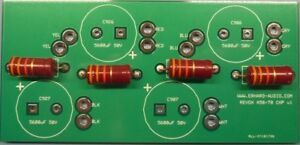resistor: (10, 57, 56, 78), (87, 64, 132, 85), (169, 58, 214, 79), (247, 66, 295, 85)
